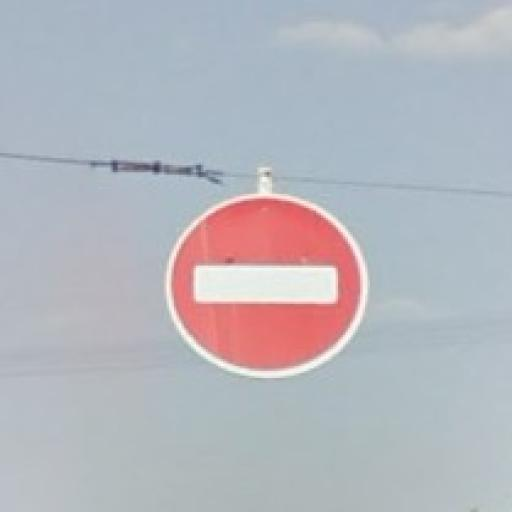traffic_sign: (165, 195, 371, 379)
